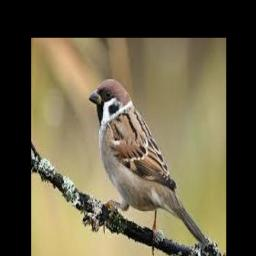Sparrow: (88, 79, 206, 252)
